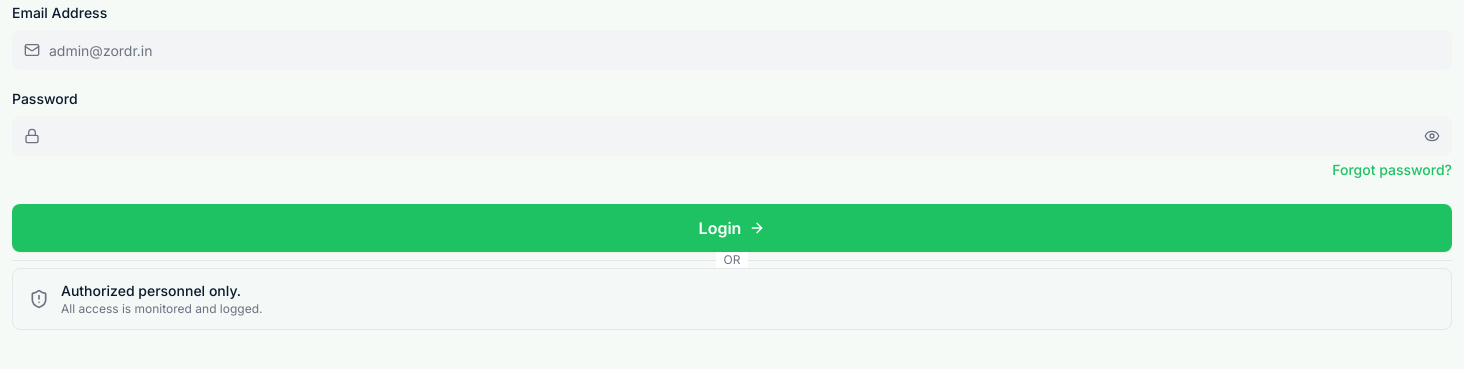
it: LoginForm › Validation errors › shows min-length error for short password
Type "short" into the password field labelled "Password" at [732, 136], box [12, 116, 1452, 156]
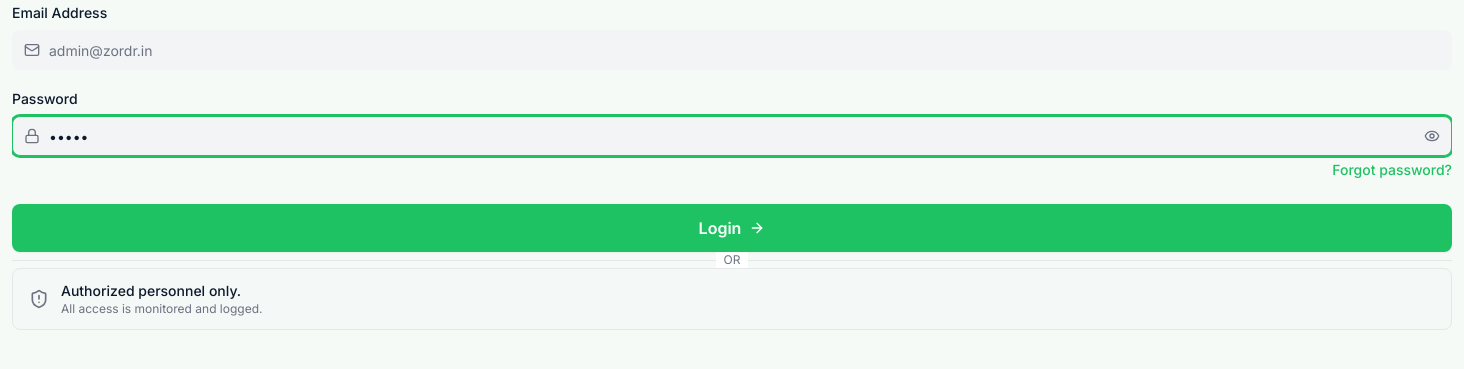
Press Tab
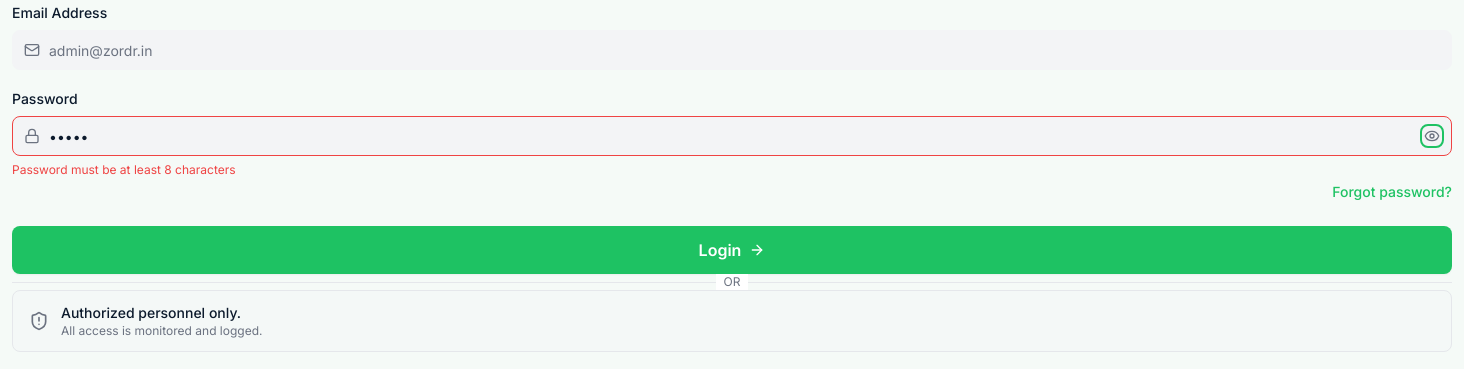
Check: the text "Password must be at least 8 characters" is shown, box [12, 162, 236, 177]
